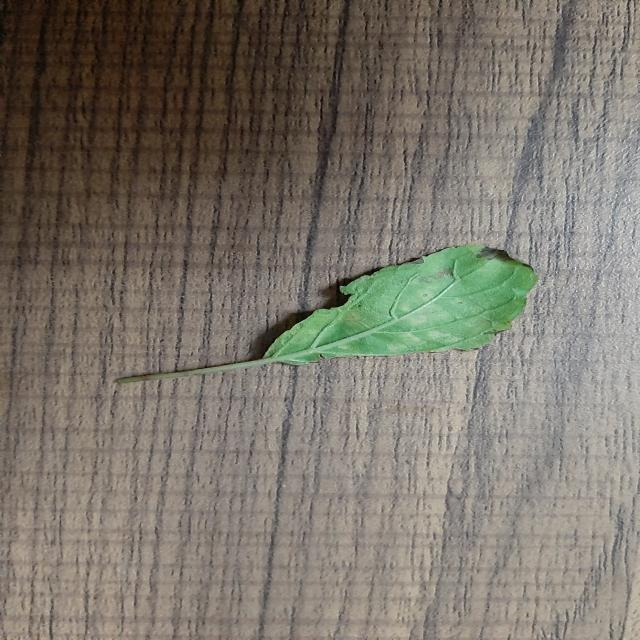defectedtulsi: (325, 245, 537, 329)
tulsi: (122, 245, 537, 382)
